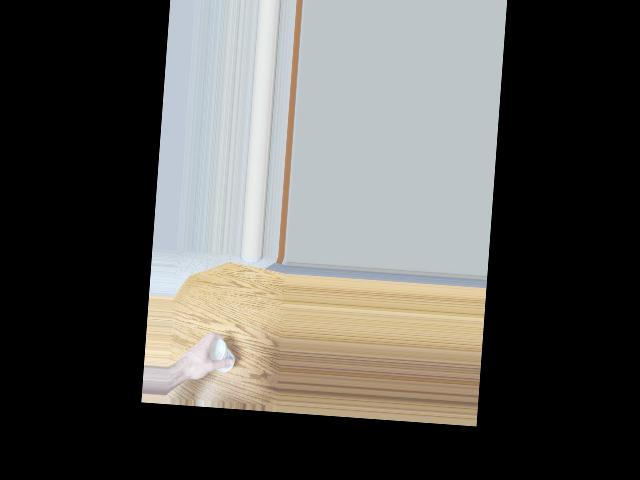cotage: (209, 332, 237, 374)
